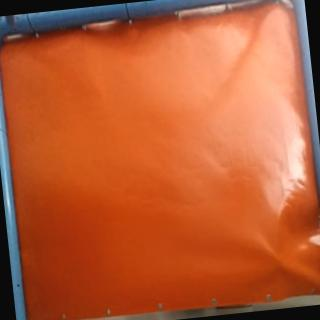Hit-hRxx: (274, 252, 290, 272)
